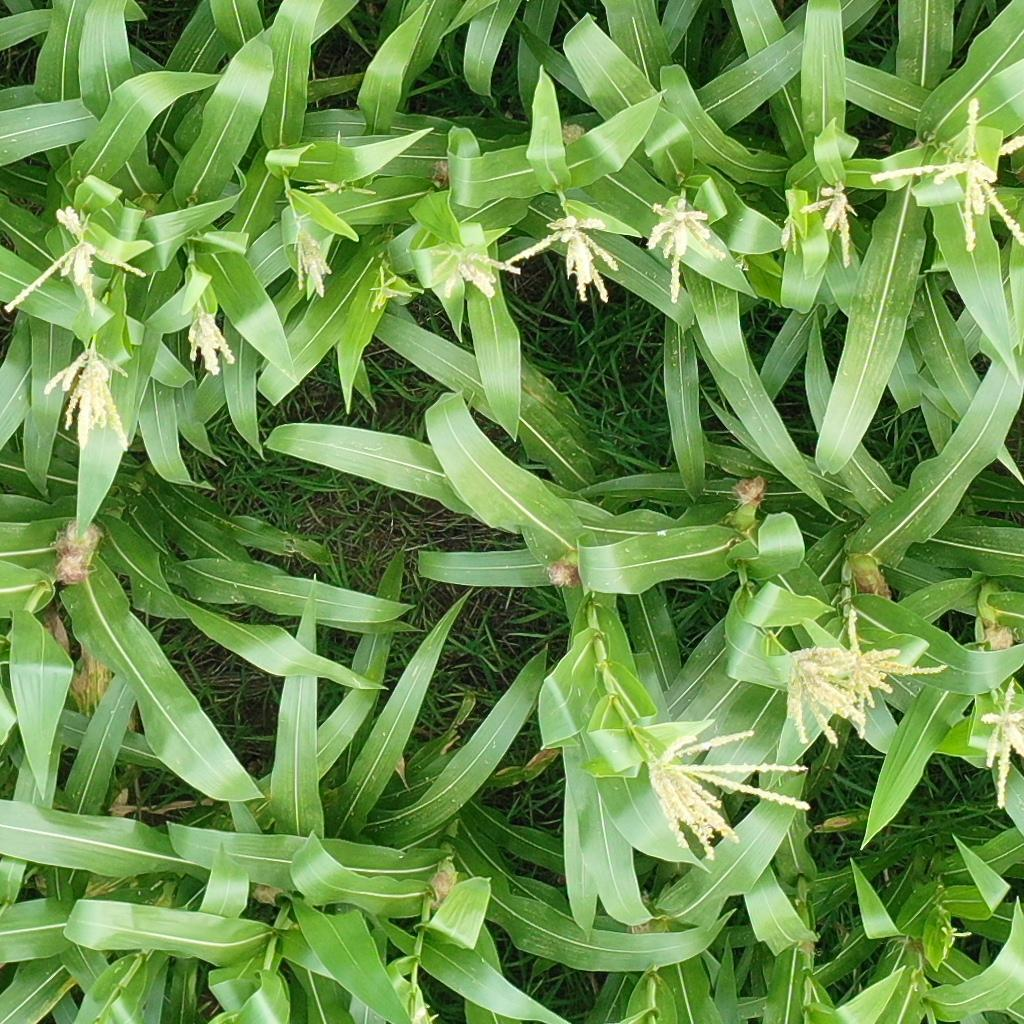Tassel: (871, 98, 1024, 262), (650, 728, 815, 861), (3, 206, 146, 317), (845, 608, 947, 738), (506, 212, 622, 307), (43, 347, 131, 453), (781, 643, 863, 749), (649, 201, 730, 304), (977, 680, 1022, 810), (798, 179, 862, 270), (432, 239, 524, 300), (286, 210, 333, 298), (184, 307, 236, 377), (367, 270, 414, 312), (782, 214, 806, 256), (300, 176, 343, 196), (942, 925, 969, 947)
